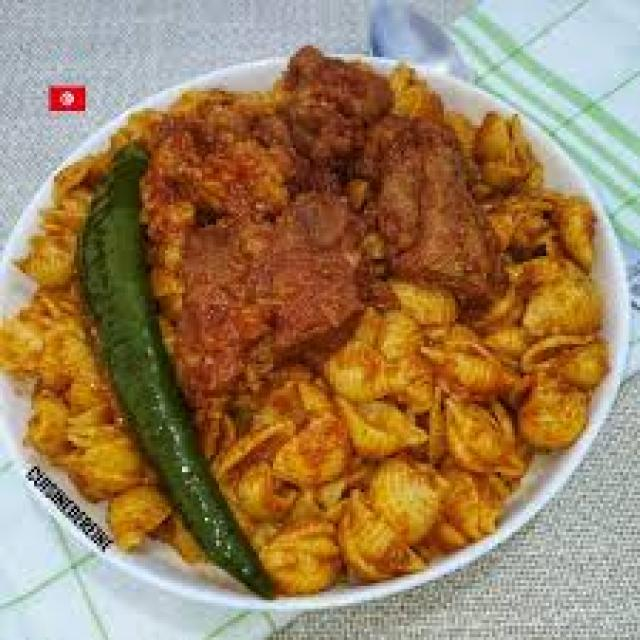Pasta: (69, 59, 546, 542)
